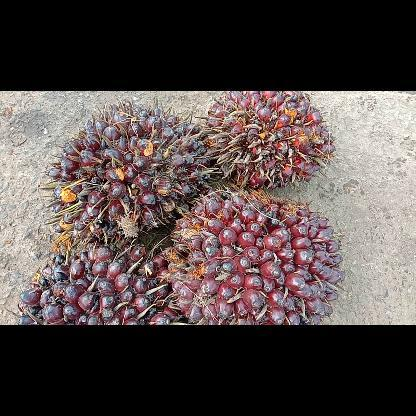Kurang masak: (40, 97, 214, 247), (14, 240, 184, 324), (204, 91, 338, 190)
TBS masak: (163, 184, 348, 324)
